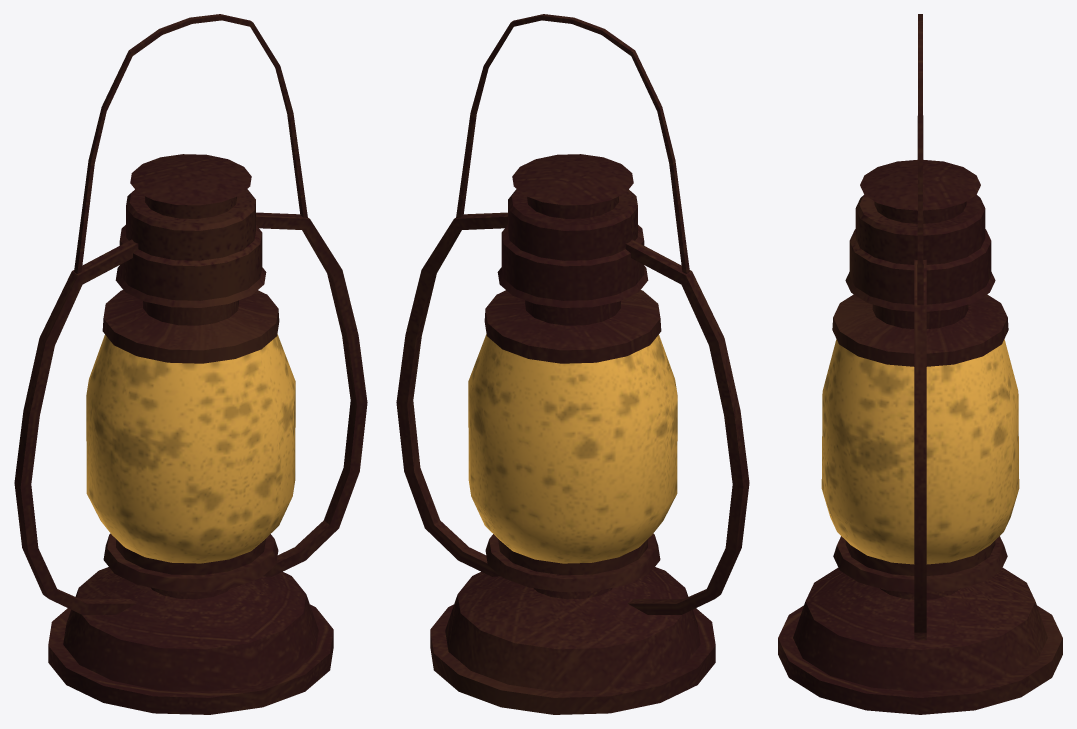
File: Lantern.fbx
The picture shows the model from 3 angles, left to right: view 1: azimuth 30°, elevation 25°; view 2: azimuth 150°, elevation 25°; view 3: azimuth 270°, elevation 25°; orthographic projection.
Parts seen in each view (by area): view 1: Cylinder; view 2: Cylinder; view 3: Cylinder.
Boxes of the visible parts, x1,y1,x2,y2 form: Cylinder: (14,14,367,714); Cylinder: (396,14,749,714); Cylinder: (778,14,1062,714).
Size of the model in its own units: 0.3175 by 0.5563 by 0.2283.
